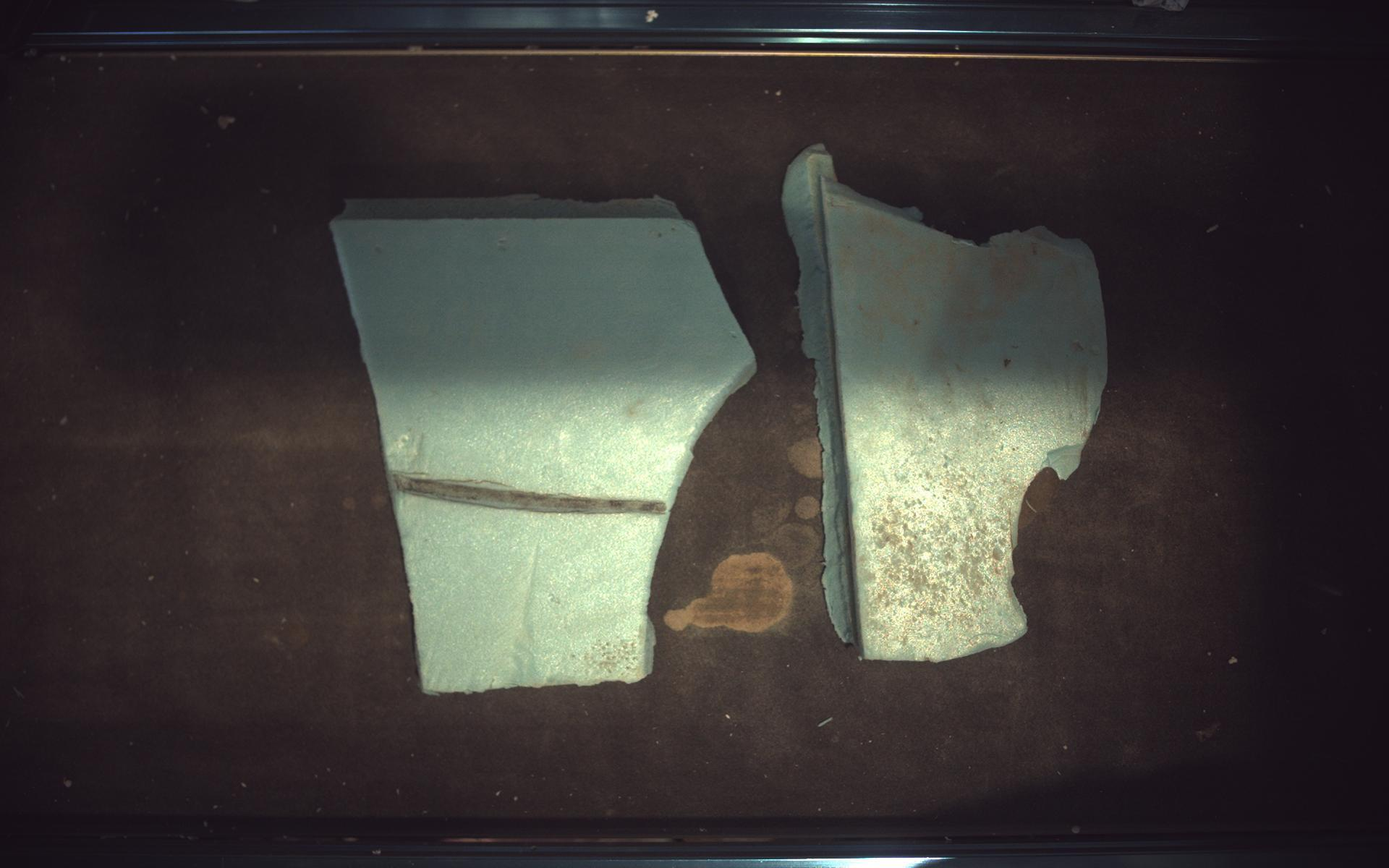foam: (330, 197, 757, 694), (784, 144, 1110, 663)
